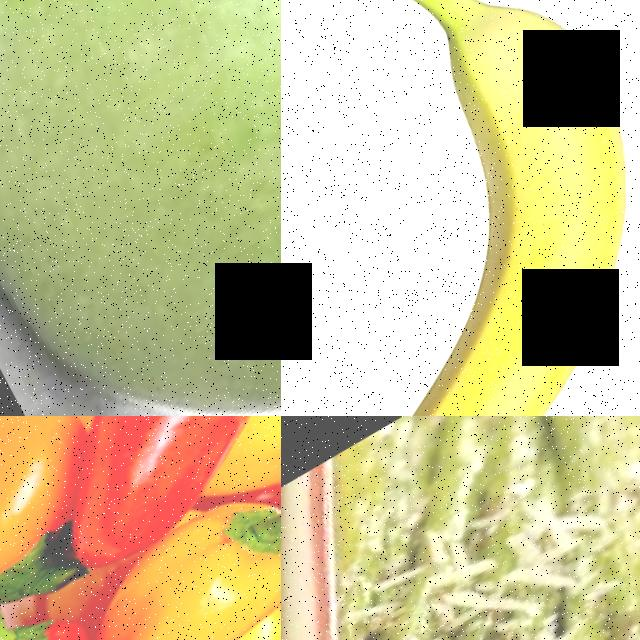apple: (0, 0, 281, 416)
banana: (281, 0, 640, 416)
bell pepper: (41, 416, 281, 556), (78, 488, 281, 640), (0, 416, 63, 602)
